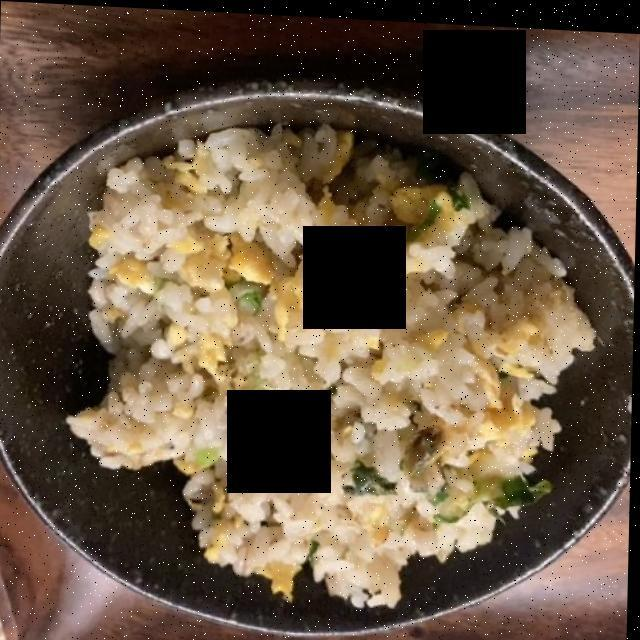egg: (87, 168, 527, 450)
rice: (89, 127, 581, 589)
